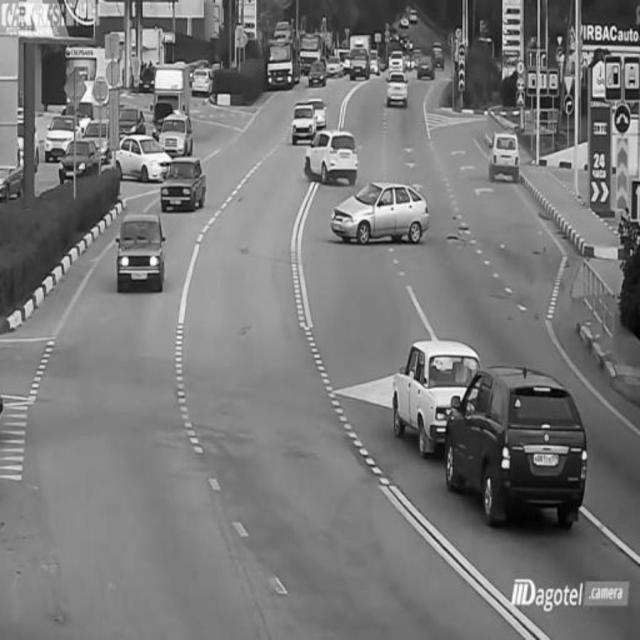vehicle: (444, 369, 592, 526), (393, 334, 470, 458), (329, 175, 430, 253), (115, 211, 169, 292), (157, 158, 211, 216), (303, 127, 357, 184), (55, 133, 106, 188), (111, 130, 166, 177), (266, 27, 302, 88), (40, 111, 78, 162), (488, 130, 523, 184), (157, 115, 201, 157), (290, 97, 320, 147), (346, 34, 373, 76), (387, 68, 411, 104), (414, 49, 438, 83), (191, 60, 213, 96), (307, 55, 329, 89)
